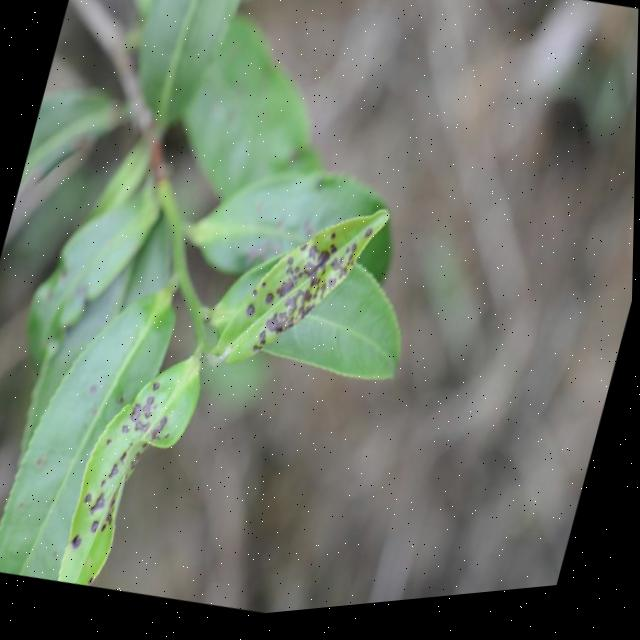Tea red scab: (69, 376, 183, 561), (244, 223, 358, 367)
